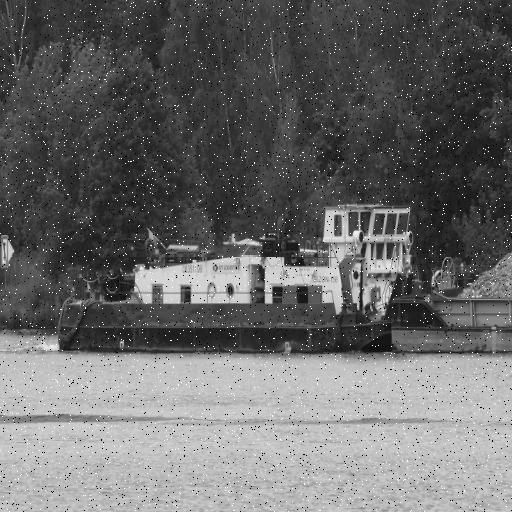tugboat: (56, 198, 416, 363)
